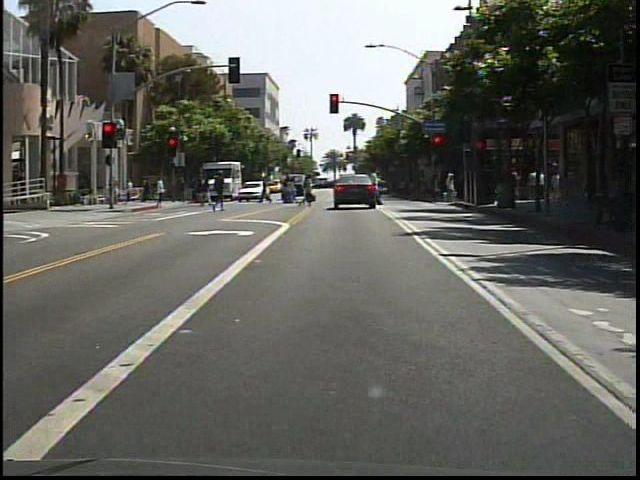person: (359, 164, 384, 210), (213, 170, 233, 215), (301, 173, 320, 211), (155, 175, 172, 211)
